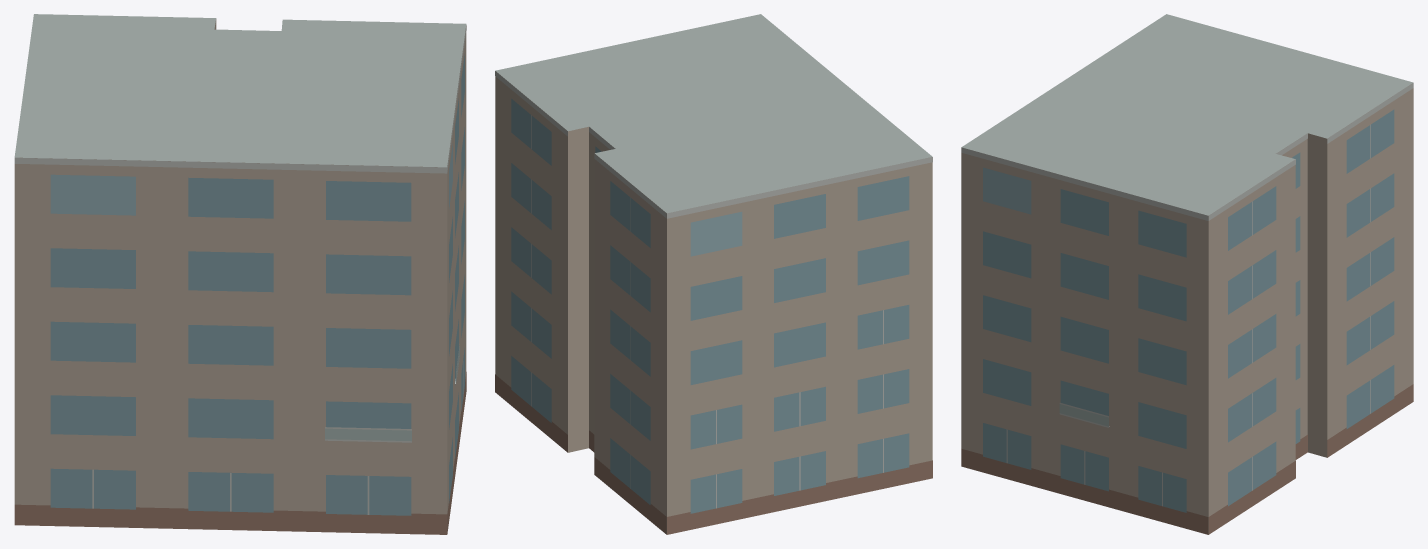
The model's file is survey-upis-32915745.glb.
3 views of the same model, side by side, from view 1: azimuth 30°, elevation 25°; view 2: azimuth 150°, elevation 25°; view 3: azimuth 270°, elevation 25° (orthographic). The views are drawn at different scales.
Parts seen in each view (by area): view 1: survey-upis-32915745.tmp; view 2: survey-upis-32915745.tmp; view 3: survey-upis-32915745.tmp.
Boxes of the visible parts, x1=… form: survey-upis-32915745.tmp: x1=14, y1=14, x2=466, y2=534; survey-upis-32915745.tmp: x1=495, y1=14, x2=932, y2=534; survey-upis-32915745.tmp: x1=961, y1=14, x2=1413, y2=534.
Bounding box in the file's own units: 19.6 × 14.45 × 18.57.
